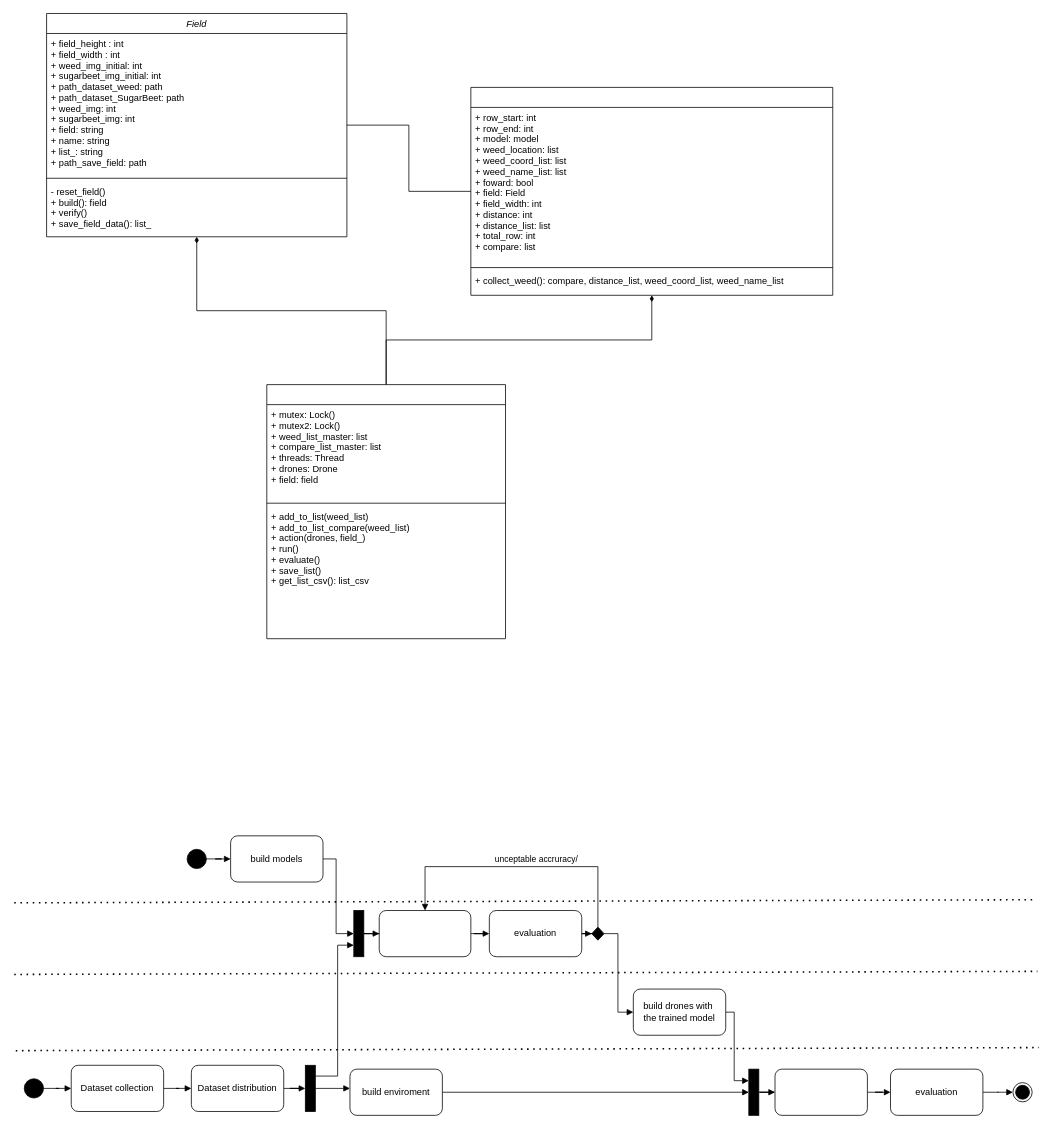
The diagram is 1053 pixels wide and 1129 high, and some of its shapes have lost their labels. Each missing label, with the box of its shape:
Drone: (470, 87, 833, 295)
inference: (774, 1068, 867, 1115)
Simulation: (266, 384, 506, 639)
training: (378, 910, 471, 957)
